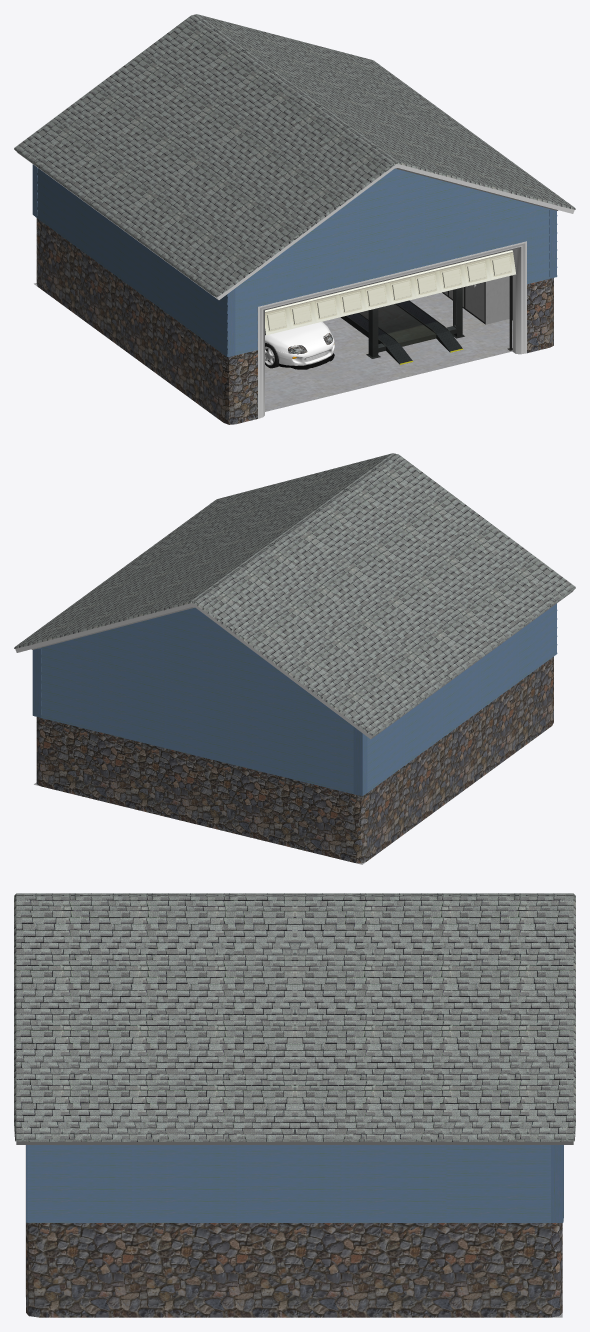
The model's file is GarageScene.fbx.
3 views of the same model, one above another, from view 1: azimuth 30°, elevation 25°; view 2: azimuth 150°, elevation 25°; view 3: azimuth 270°, elevation 25° (orthographic). The views are drawn at different scales.
Visible parts, largest first — view 1: Roof, UpperExteriorWall, LowerExteriorWall, Floor1, Garage_Bay_Door1, Car_Lift, BayTrim, Supra, LargToolbox; view 2: Roof, UpperExteriorWall, LowerExteriorWall; view 3: Roof, LowerExteriorWall, UpperExteriorWall.
Part boxes in pixels (x1=…): Roof: x1=14, y1=14, x2=575, y2=299; UpperExteriorWall: x1=32, y1=164, x2=557, y2=357; LowerExteriorWall: x1=36, y1=218, x2=553, y2=424; Floor1: x1=34, y1=283, x2=512, y2=411; Garage_Bay_Door1: x1=265, y1=250, x2=515, y2=350; Car_Lift: x1=340, y1=287, x2=464, y2=364; BayTrim: x1=257, y1=241, x2=526, y2=418; Supra: x1=265, y1=322, x2=334, y2=369; LargToolbox: x1=442, y1=276, x2=509, y2=324; Roof: x1=14, y1=453, x2=575, y2=739; UpperExteriorWall: x1=32, y1=603, x2=557, y2=796; LowerExteriorWall: x1=36, y1=656, x2=553, y2=863; Roof: x1=14, y1=893, x2=575, y2=1144; LowerExteriorWall: x1=26, y1=1222, x2=562, y2=1317; UpperExteriorWall: x1=26, y1=1145, x2=563, y2=1222.
Size of the model in its own units: 1096 by 656 by 1073.
